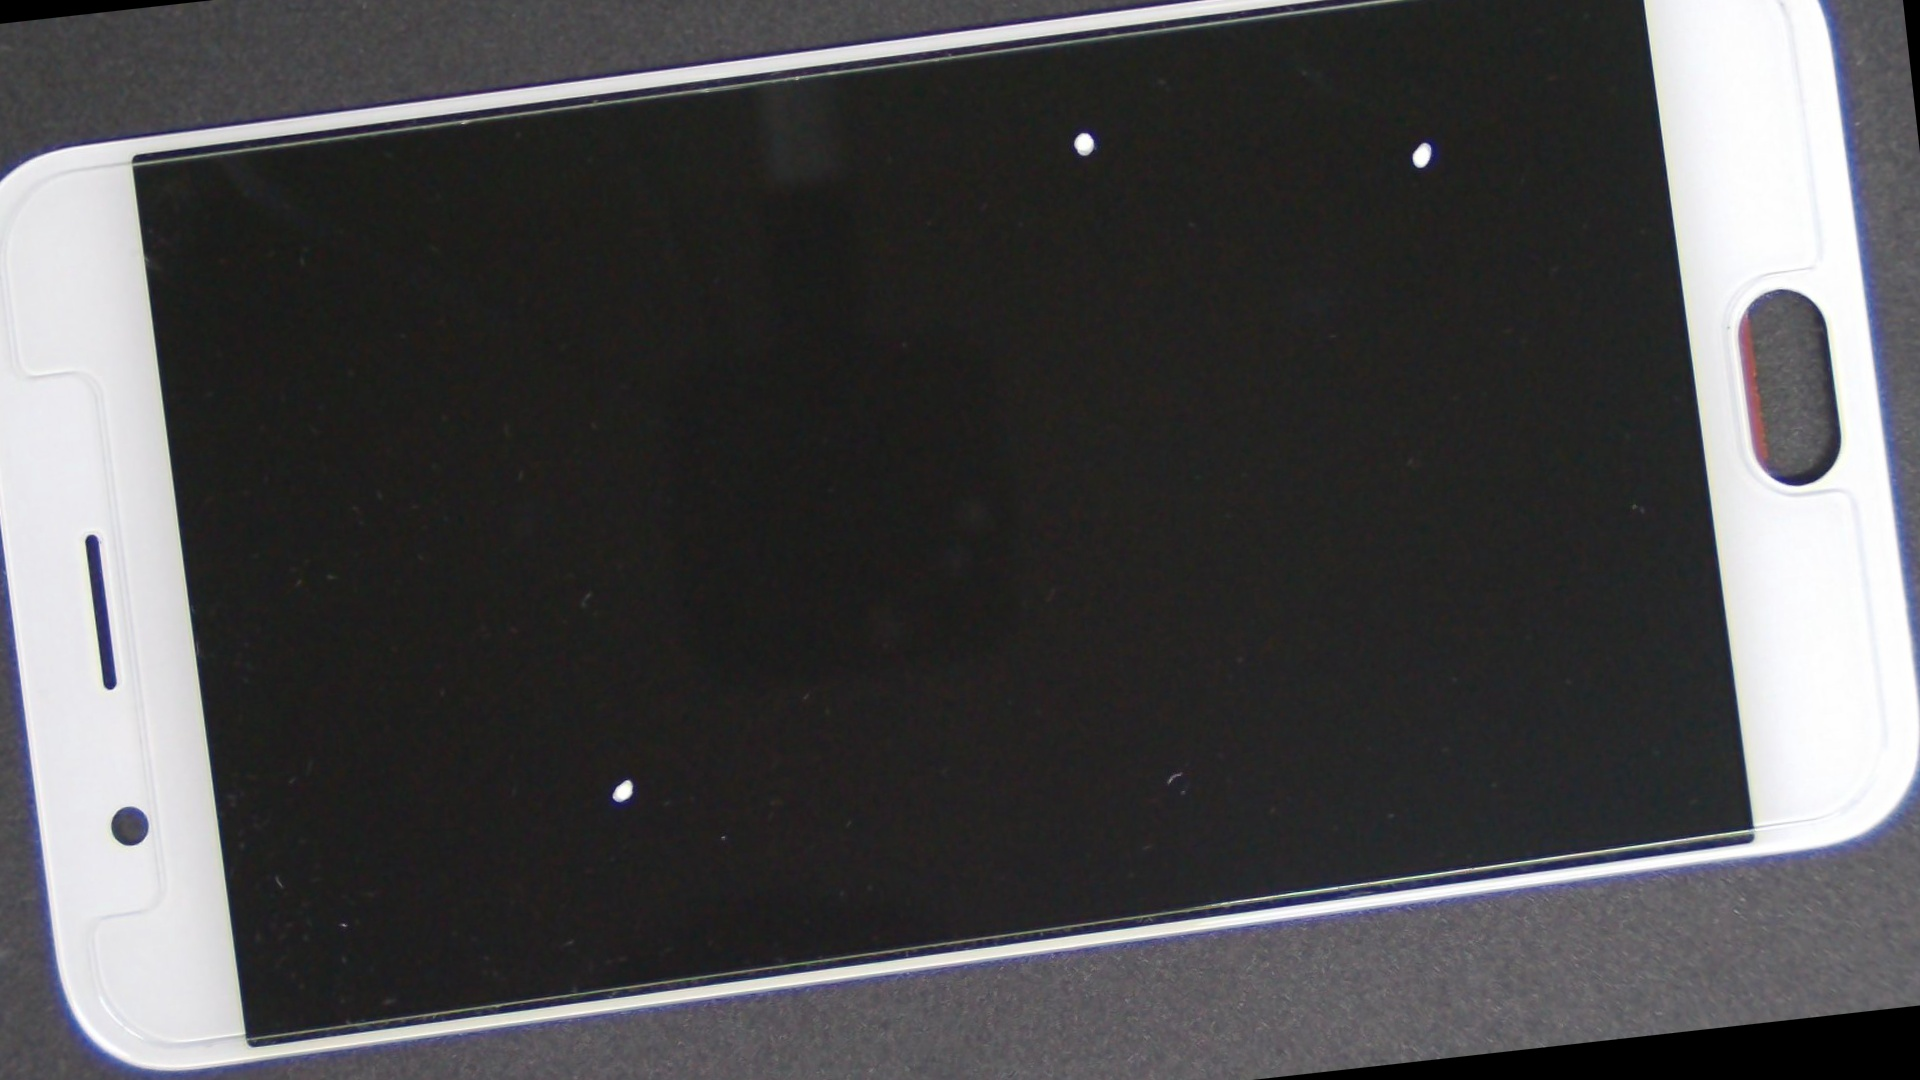oil: (248, 332, 1007, 1080), (644, 0, 1920, 363), (473, 0, 1689, 311)
